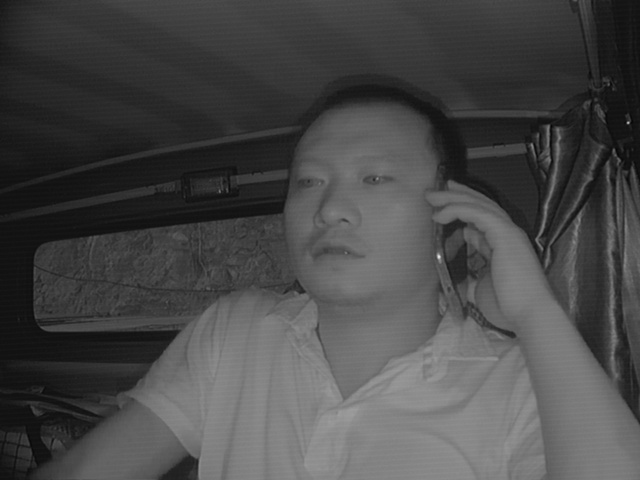hand: (427, 173, 534, 326)
